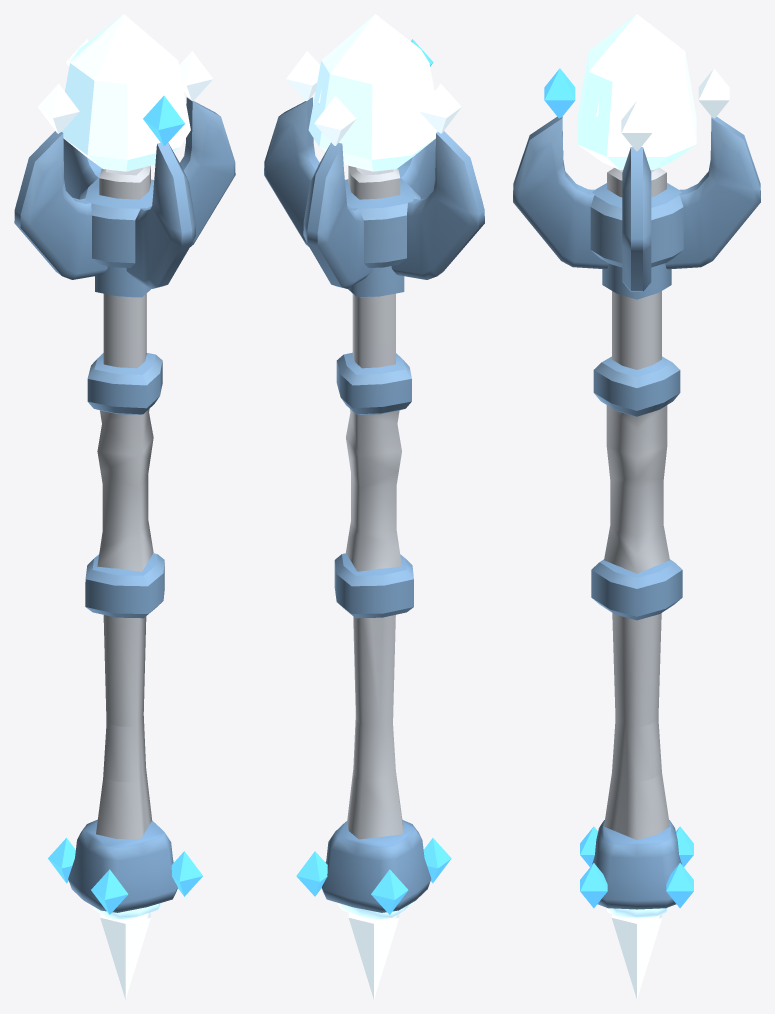
The model's file is staff_ice_rare.glb.
3 views of the same model, side by side, from view 1: azimuth 30°, elevation 25°; view 2: azimuth 150°, elevation 25°; view 3: azimuth 270°, elevation 25° (orthographic).
Parts seen in each view (by area): view 1: staff_ice_rare; view 2: staff_ice_rare; view 3: staff_ice_rare.
Boxes of the visible parts, box(x1,y1,x2,y2) form: staff_ice_rare: box(14, 14, 235, 999); staff_ice_rare: box(264, 14, 484, 999); staff_ice_rare: box(513, 14, 760, 998).
Bounding box in the file's own units: 50.85 × 223 × 50.85.
5 materials, 2 textured.
